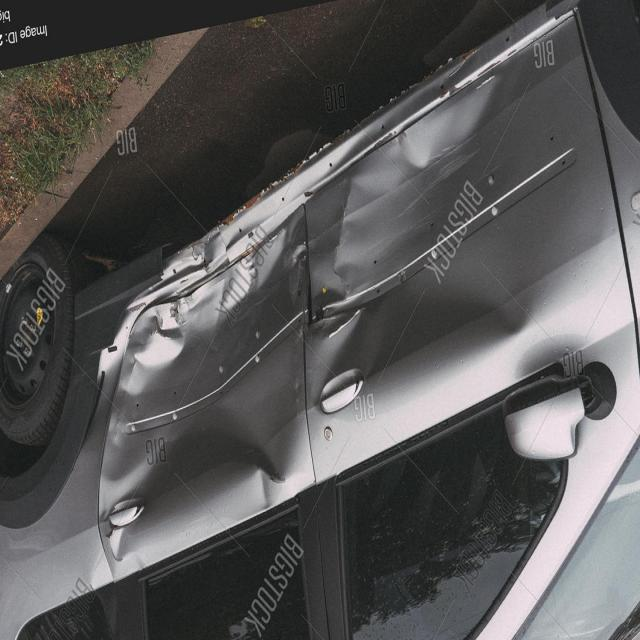dent: (70, 67, 497, 622)
